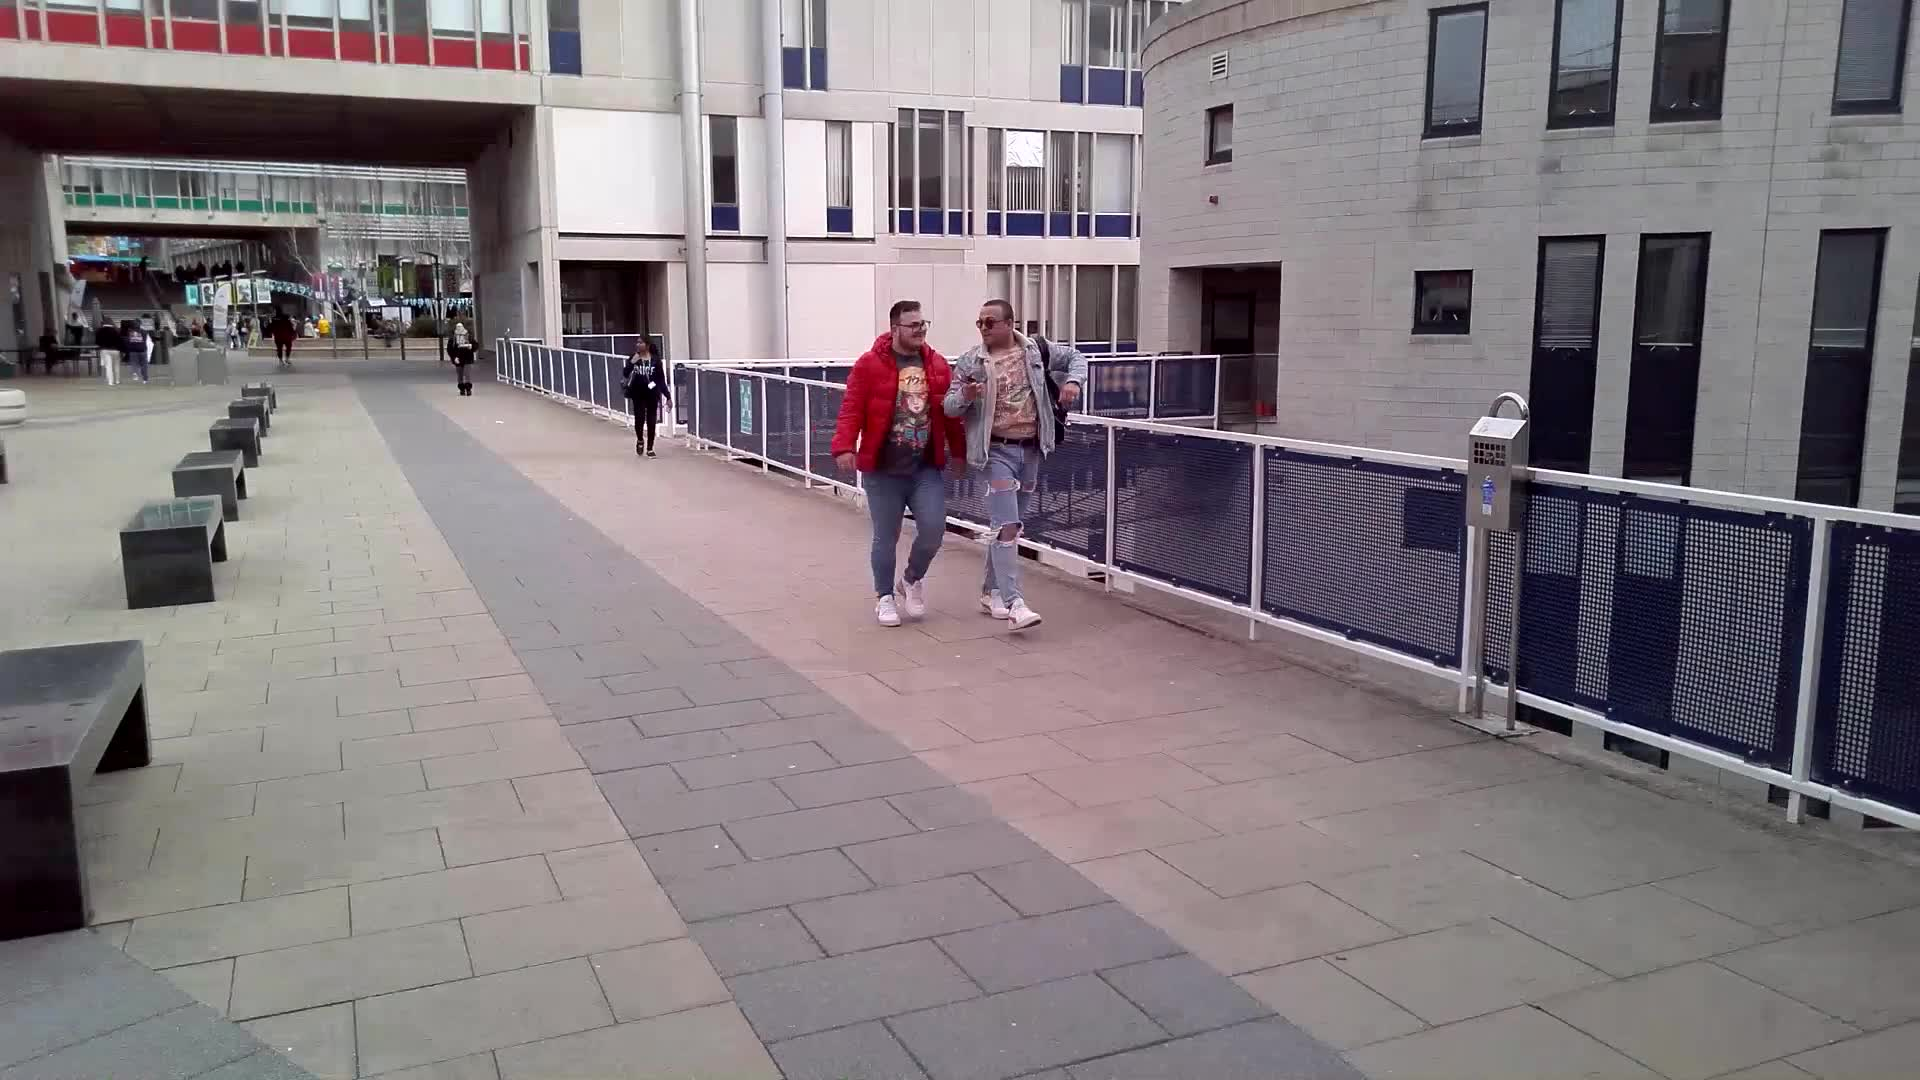Bench: (1, 623, 164, 990), (126, 494, 241, 606), (172, 451, 258, 507), (210, 417, 261, 453)
Person: (962, 294, 1085, 635), (853, 302, 958, 607), (628, 329, 669, 455), (444, 309, 489, 398)
